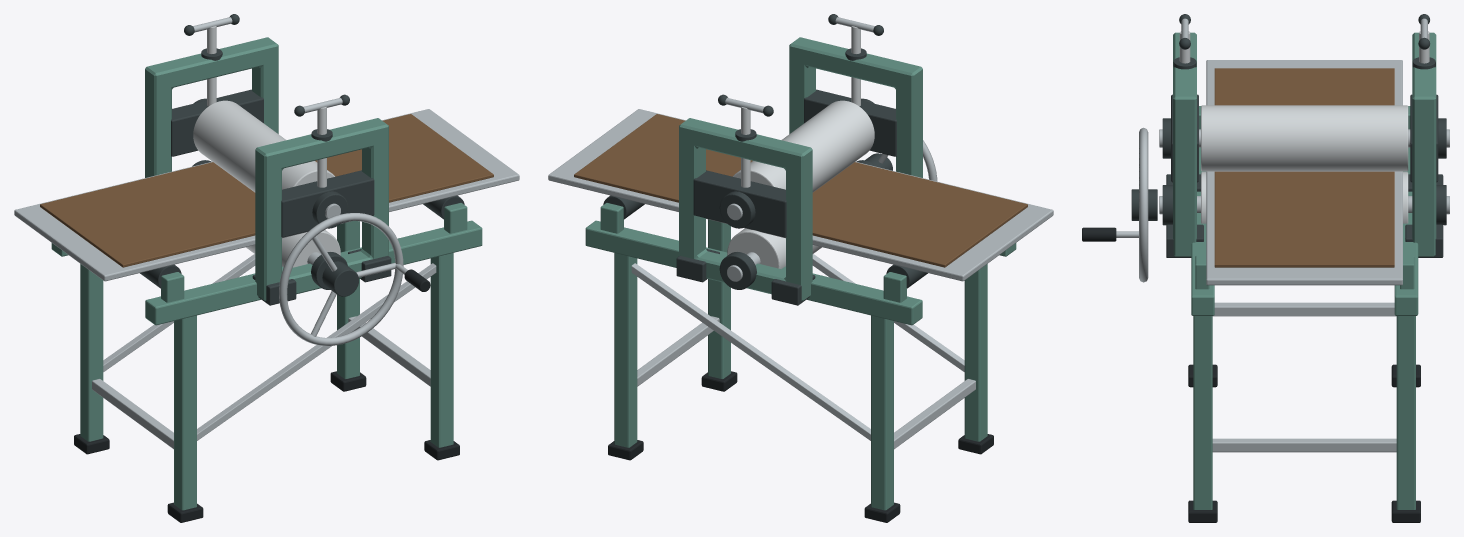
Rendered from city-compact-printmaking-press.glb.
The picture shows the model from 3 angles, left to right: view 1: azimuth 30°, elevation 25°; view 2: azimuth 150°, elevation 25°; view 3: azimuth 270°, elevation 25°; orthographic projection. The views are drawn at different scales.
Parts seen in each view (by area): view 1: Assembly | Muted sage machine enamel, Assembly | Dark wooden stiffeners, Assembly | Satin workshop fittings, Assembly | Dark metal fixtures, Assembly | Polished small hardware, Assembly | Dark pads and cable rubber; view 2: Assembly | Muted sage machine enamel, Assembly | Dark wooden stiffeners, Assembly | Satin workshop fittings, Assembly | Dark metal fixtures, Assembly | Polished small hardware, Assembly | Dark pads and cable rubber; view 3: Assembly | Dark wooden stiffeners, Assembly | Muted sage machine enamel, Assembly | Satin workshop fittings, Assembly | Polished small hardware, Assembly | Dark metal fixtures, Assembly | Dark pads and cable rubber.
Boxes of the visible parts, x1,y1,x2,y2 form: Assembly | Muted sage machine enamel: (51, 37, 482, 510); Assembly | Dark wooden stiffeners: (40, 114, 493, 267); Assembly | Satin workshop fittings: (14, 17, 519, 449); Assembly | Dark metal fixtures: (140, 14, 464, 305); Assembly | Polished small hardware: (193, 26, 340, 267); Assembly | Dark pads and cable rubber: (74, 269, 459, 522); Assembly | Muted sage machine enamel: (585, 37, 1016, 510); Assembly | Dark wooden stiffeners: (574, 114, 1027, 267); Assembly | Satin workshop fittings: (548, 17, 1053, 449); Assembly | Dark metal fixtures: (603, 14, 927, 305); Assembly | Polished small hardware: (727, 26, 874, 268); Assembly | Dark pads and cable rubber: (608, 371, 993, 522); Assembly | Dark wooden stiffeners: (1214, 68, 1394, 267); Assembly | Muted sage machine enamel: (1173, 32, 1436, 509); Assembly | Satin workshop fittings: (1116, 18, 1449, 452); Assembly | Polished small hardware: (1179, 31, 1429, 223); Assembly | Dark metal fixtures: (1131, 14, 1446, 257); Assembly | Dark pads and cable rubber: (1082, 227, 1420, 522).
Size of the model in its own units: 1.57 by 1.41 by 1.11.
